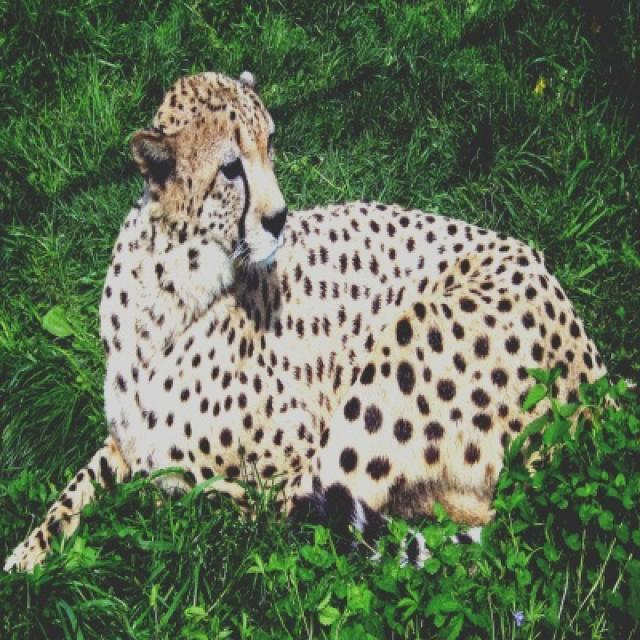Cheetah: (10, 72, 608, 568)
